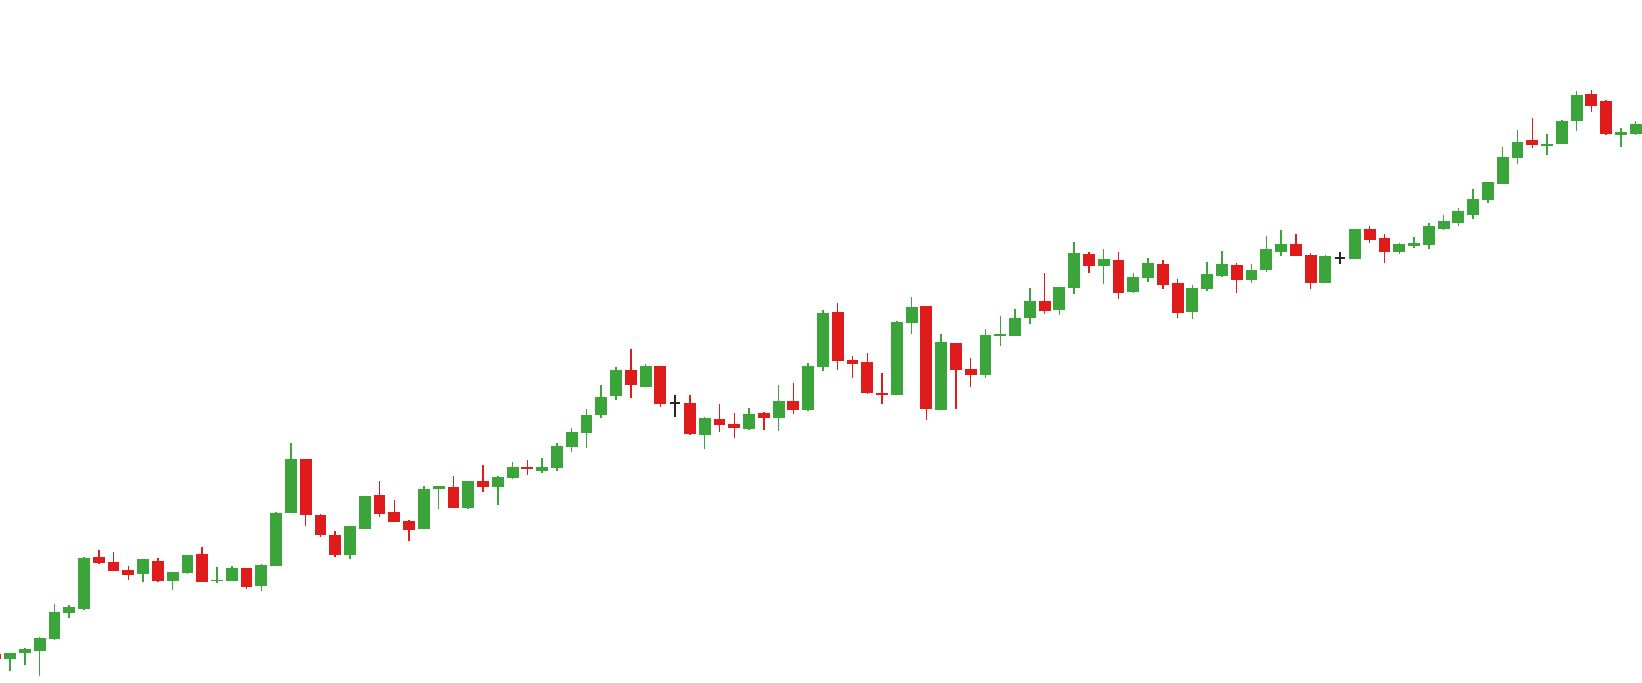buy: (861, 331, 950, 422)
